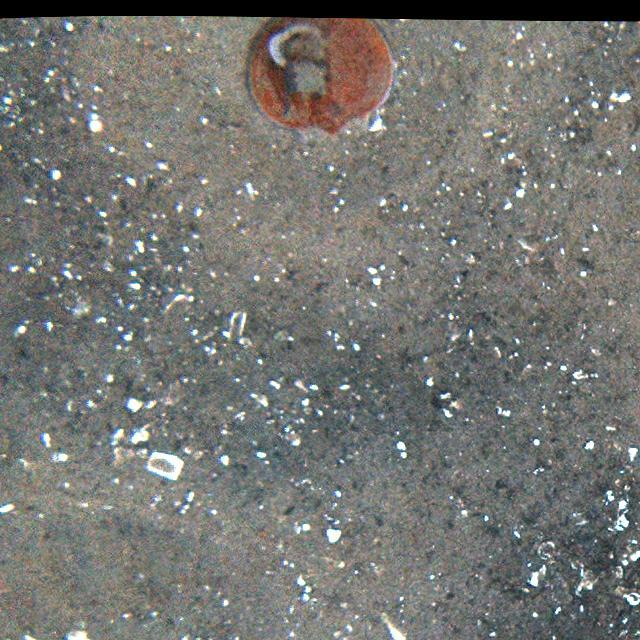scallop: (240, 14, 400, 136)
